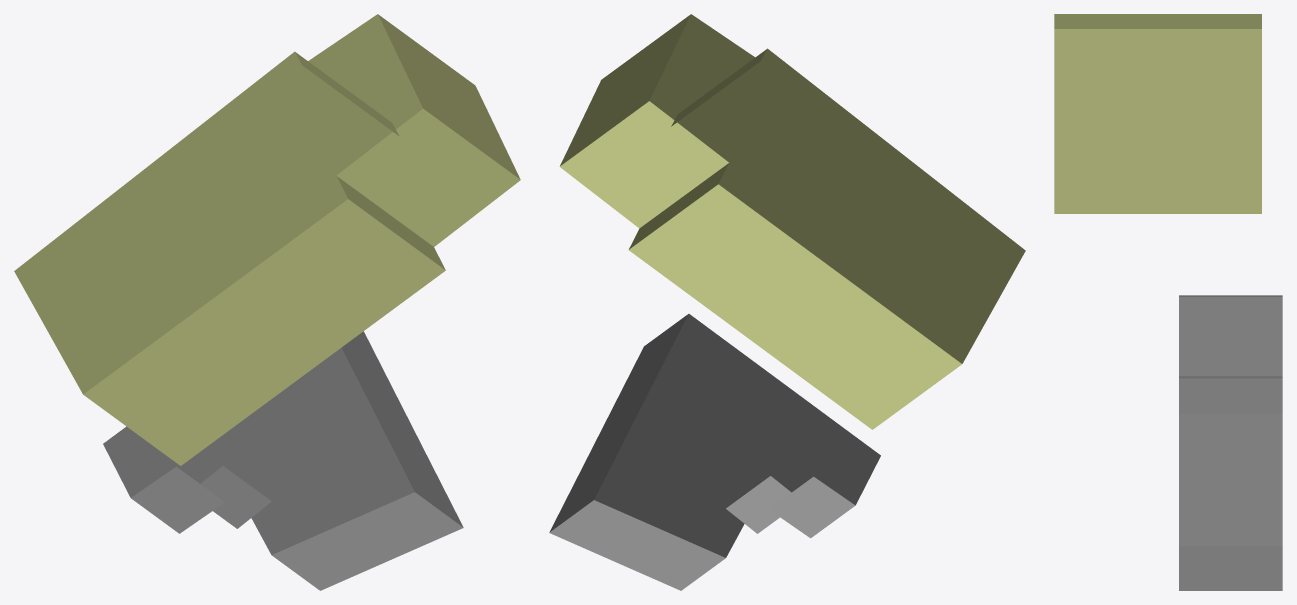
The picture shows the model from 3 angles, left to right: view 1: azimuth 30°, elevation 25°; view 2: azimuth 150°, elevation 25°; view 3: azimuth 270°, elevation 25°; orthographic projection. The views are drawn at different scales.
Parts seen in each view (by area): view 1: 0_1_0_2_0_0_1_3_2; view 2: 0_1_0_2_0_0_1_3_2; view 3: 0_1_0_2_0_0_1_3_2.
Boxes of the visible parts, x1=… form: 0_1_0_2_0_0_1_3_2: x1=14, y1=14, x2=520, y2=590; 0_1_0_2_0_0_1_3_2: x1=549, y1=14, x2=1025, y2=590; 0_1_0_2_0_0_1_3_2: x1=1054, y1=14, x2=1282, y2=590.
Bounding box in the file's own units: 14.56 × 17.78 × 6.6.
